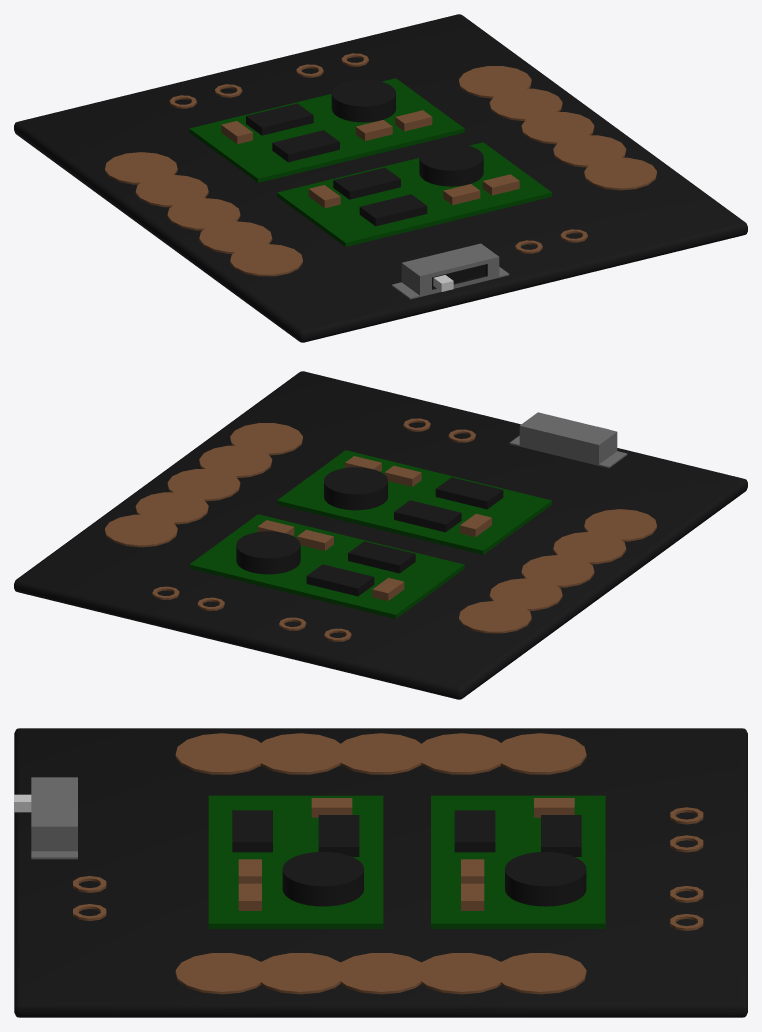
Rendered from board.dae.
3 renders of one model, top to bottom at view 1: azimuth 30°, elevation 25°; view 2: azimuth 150°, elevation 25°; view 3: azimuth 270°, elevation 25°, orthographic. The views are drawn at different scales.
Visible parts, largest first — view 1: Platine_groß, Platine_klein (×2), Zylinder.1 (×2), Kleinteil_rund (×2), Zylinder, Schaltergehäuse, Kleinteil_schwarz (×2), Kleinteil_schwarz.1 (×2), Kleinteil_Kupfer.2 (×2), Kleinteil_Kupfer.1 (×2); view 2: Platine_groß, Platine_klein (×2), Zylinder.1 (×2), Kleinteil_rund (×2), Zylinder, Schaltergehäuse, Kleinteil_schwarz.1 (×2), Kleinteil_schwarz (×2), Kleinteil_Kupfer.1 (×2); view 3: Platine_groß, Platine_klein (×2), Zylinder.1 (×2), Kleinteil_rund (×2), Zylinder, Kleinteil_schwarz (×2), Schaltergehäuse, Kleinteil_schwarz.1 (×2), Kleinteil_Kupfer (×2), Kleinteil_Kupfer.2 (×2), Kleinteil_Kupfer.1 (×2).
Boxes of the visible parts, x1,y1,x2,y2 form: Platine_groß: (14,14,747,342); Platine_klein (×2): (189,78,552,246); Zylinder.1 (×2): (105,66,656,276); Kleinteil_rund (×2): (331,79,483,186); Zylinder: (167,112,594,230); Schaltergehäuse: (401,243,499,296); Kleinteil_schwarz (×2): (272,130,427,226); Kleinteil_schwarz.1 (×2): (246,103,400,199); Kleinteil_Kupfer.2 (×2): (395,110,519,195); Kleinteil_Kupfer.1 (×2): (355,120,480,205); Platine_groß: (14,371,747,699); Platine_klein (×2): (189,450,552,618); Zylinder.1 (×2): (105,423,656,633); Kleinteil_rund (×2): (236,467,387,574); Zylinder: (167,469,594,587); Schaltergehäuse: (519,412,617,464); Kleinteil_schwarz.1 (×2): (306,500,461,596); Kleinteil_schwarz (×2): (348,477,503,573); Kleinteil_Kupfer.1 (×2): (297,465,421,550); Platine_groß: (14,728,747,1017); Platine_klein (×2): (208,795,605,928); Zylinder.1 (×2): (175,733,586,994); Kleinteil_rund (×2): (282,852,586,906); Zylinder: (335,733,427,994); Kleinteil_schwarz (×2): (232,810,495,852); Schaltergehäuse: (31,777,77,851); Kleinteil_schwarz.1 (×2): (318,815,581,856); Kleinteil_Kupfer (×2): (311,798,574,817); Kleinteil_Kupfer.2 (×2): (238,883,484,910); Kleinteil_Kupfer.1 (×2): (238,859,484,883).
Bounding box in the file's own units: 113 × 8.03 × 126.
